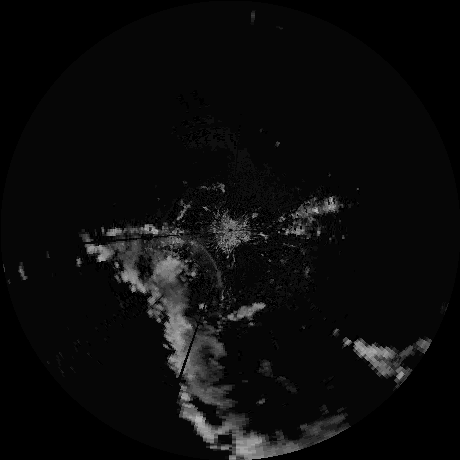frontgust: (191, 241, 224, 296)
